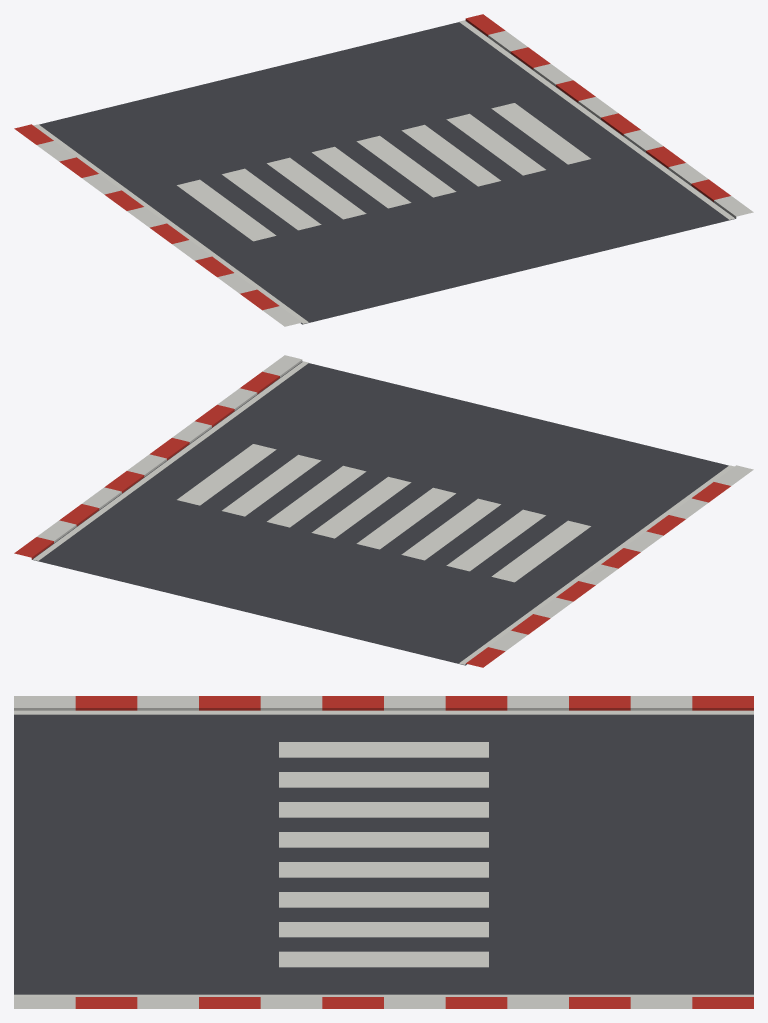
Rendered from road_crosswalk.glb.
The picture shows the model from 3 angles, top to bottom: view 1: azimuth 30°, elevation 25°; view 2: azimuth 150°, elevation 25°; view 3: azimuth 270°, elevation 25°; orthographic projection. The views are drawn at different scales.
Parts seen in each view (by area): view 1: road_crosswalk; view 2: road_crosswalk; view 3: road_crosswalk.
Boxes of the visible parts, bbox=[...] form: road_crosswalk: bbox=[14, 14, 753, 326]; road_crosswalk: bbox=[14, 355, 753, 667]; road_crosswalk: bbox=[14, 696, 753, 1008].
Size of the model in its own units: 12 by 0.05 by 12.
